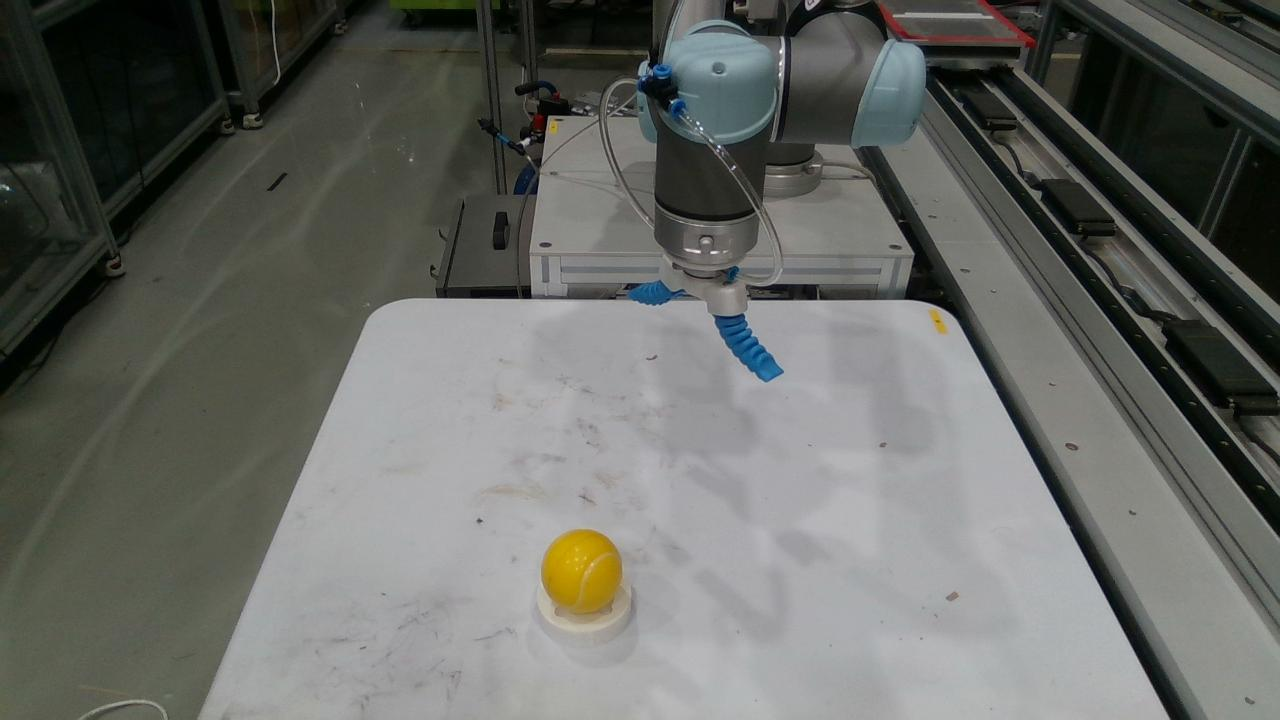UR5: (635, 0, 927, 318)
gripper_left: (627, 281, 682, 305)
gripper_right: (714, 313, 782, 381)
target: (541, 529, 623, 614), (535, 584, 631, 646)
